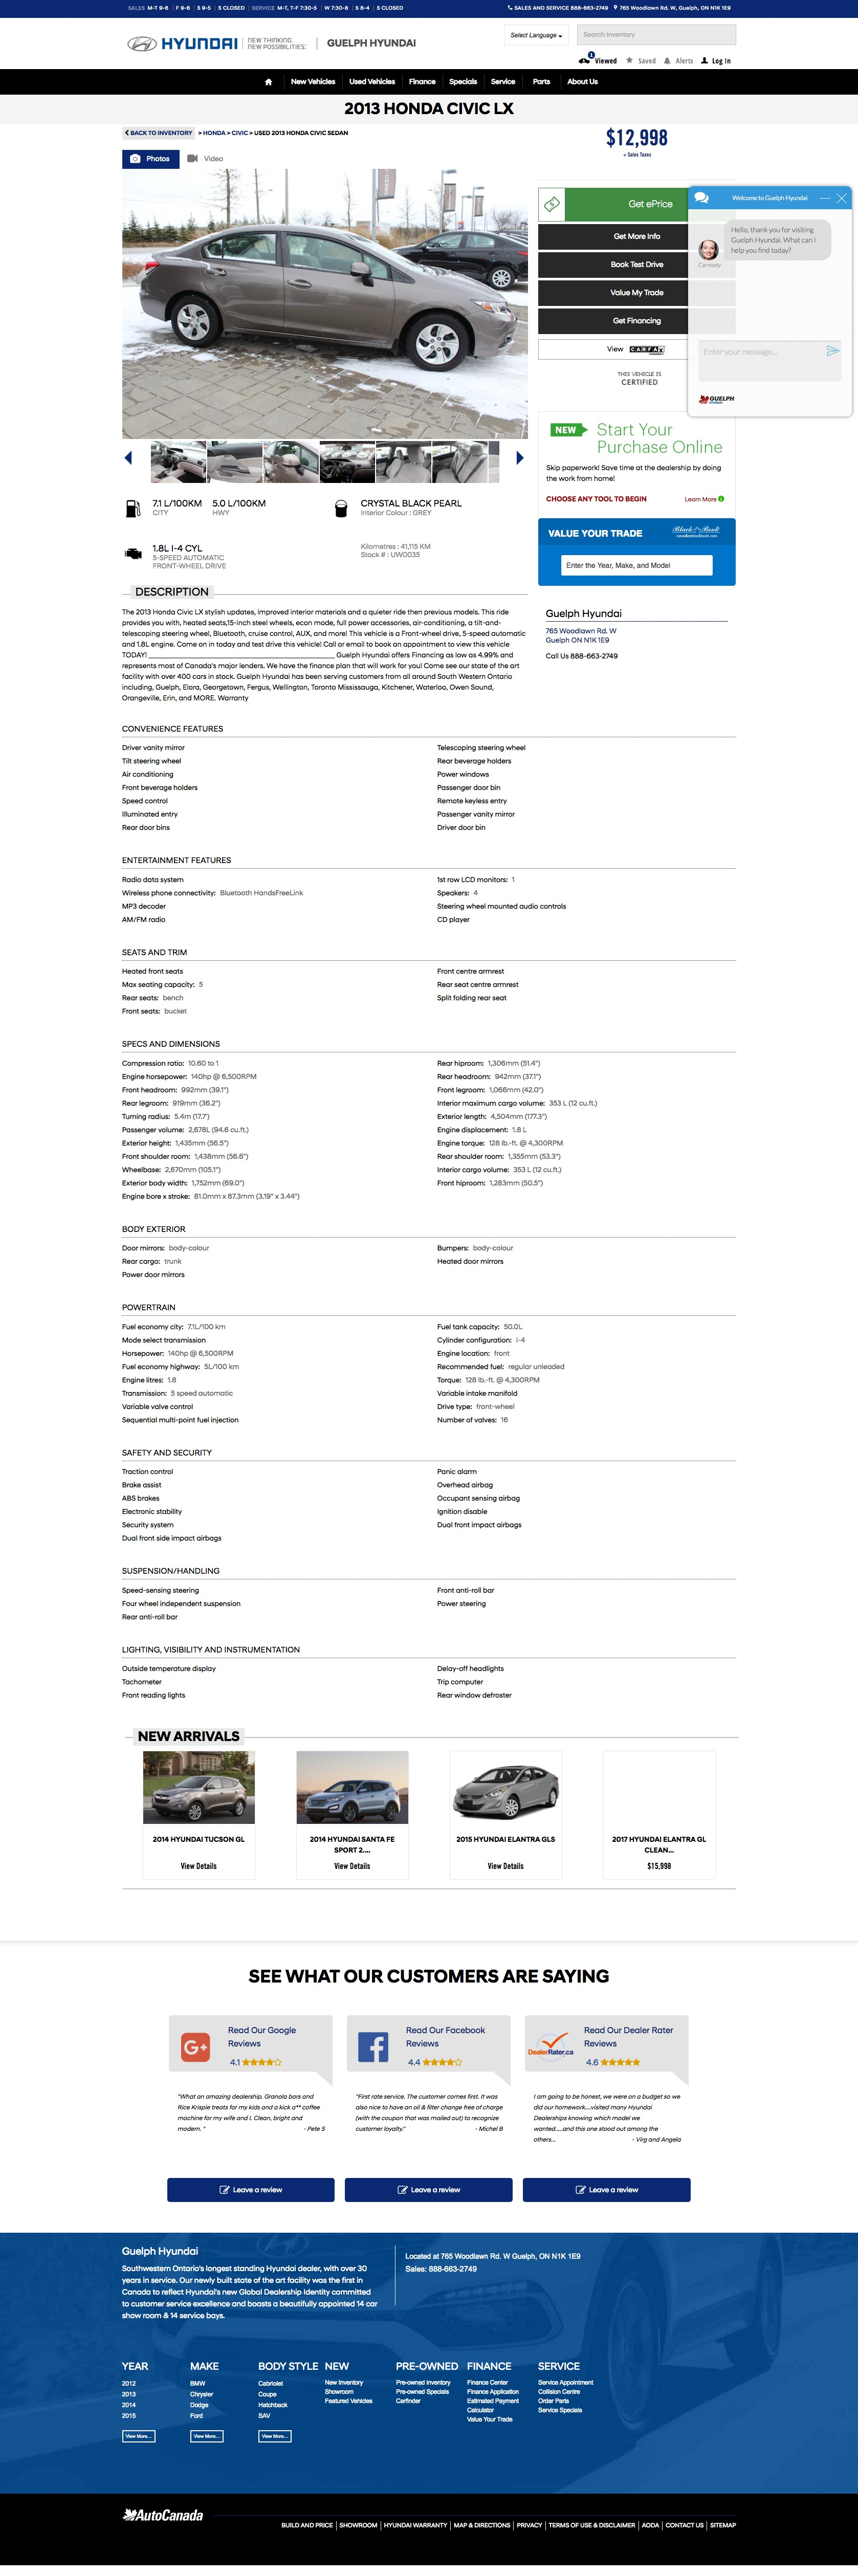car: (516, 450, 524, 465)
